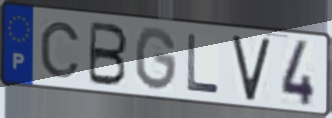4: (279, 37, 318, 110)
B: (86, 20, 130, 89)
C: (38, 20, 83, 81)
G: (133, 25, 179, 94)
L: (185, 31, 222, 96)
V: (230, 35, 273, 103)
